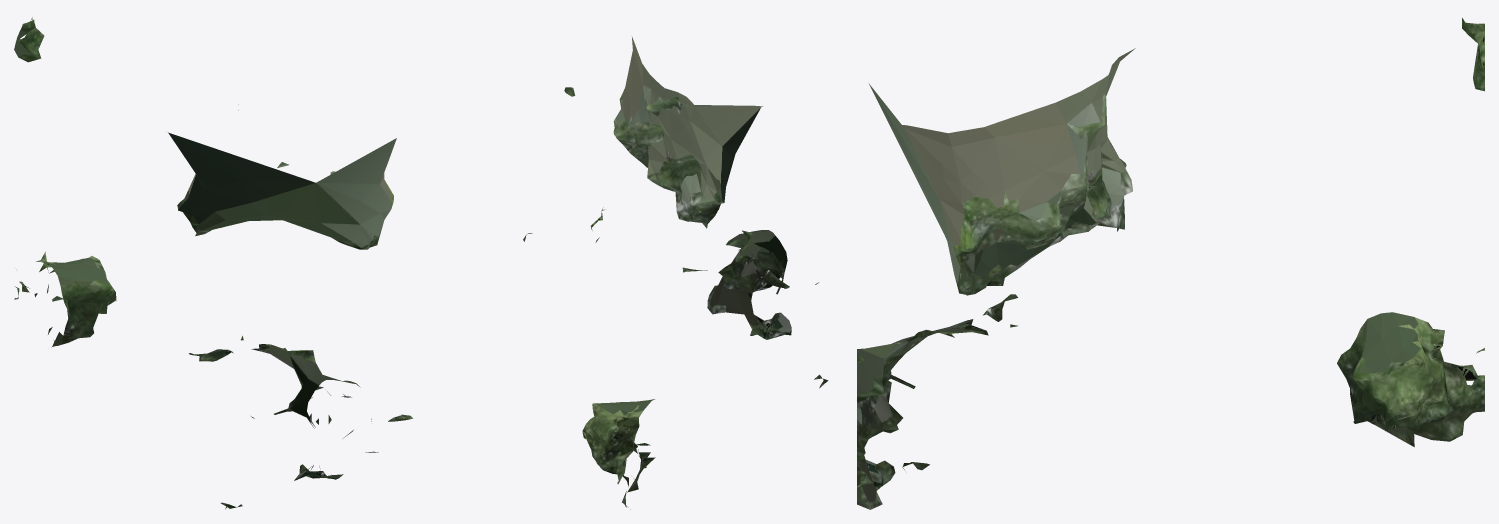
3 renders of one model, left to right at view 1: azimuth 30°, elevation 25°; view 2: azimuth 150°, elevation 25°; view 3: azimuth 270°, elevation 25°, orthographic. The views are drawn at different scales.
Bounding box in the file's own units: 2.81 × 3.15 × 3.93.
1 material, 1 textured.
